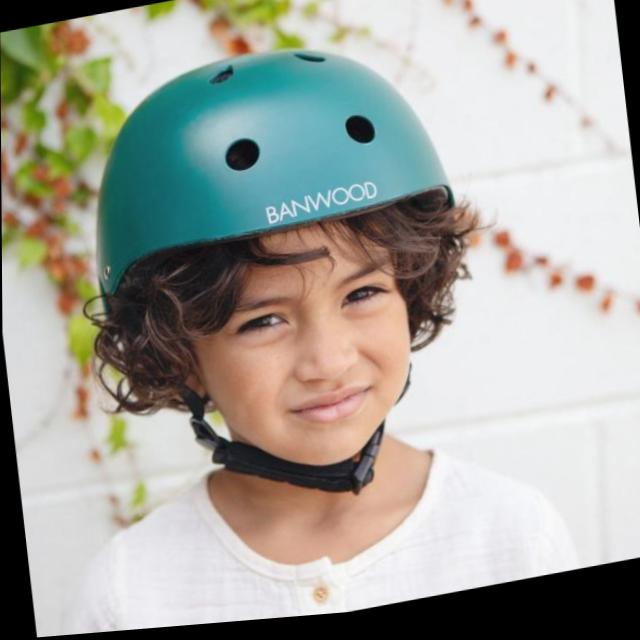helmet: (58, 14, 506, 550)
